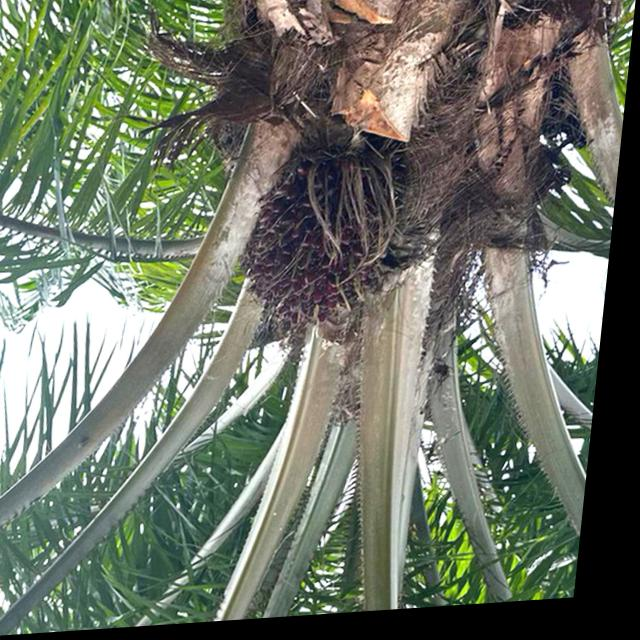ripe: (226, 134, 436, 354)
